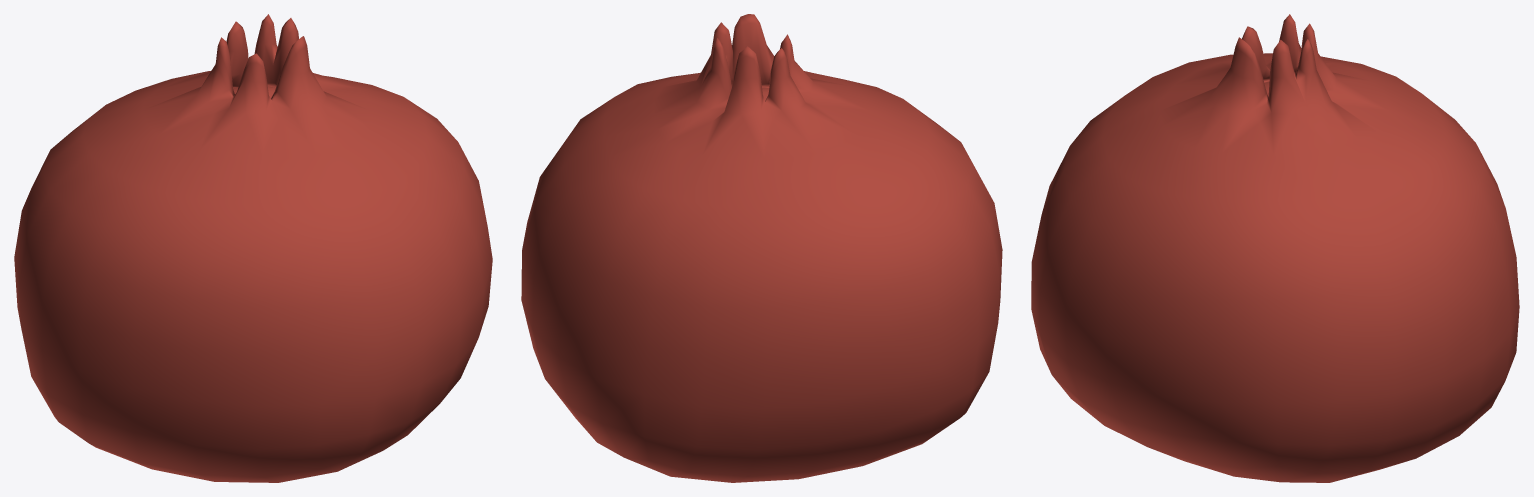
Rendered from Pomegranate_01.dae.
The picture shows the model from 3 angles, left to right: view 1: azimuth 30°, elevation 25°; view 2: azimuth 150°, elevation 25°; view 3: azimuth 270°, elevation 25°; orthographic projection. The views are drawn at different scales.
Visible parts, largest first — view 1: Pomegranate_01_LOD0; view 2: Pomegranate_01_LOD0; view 3: Pomegranate_01_LOD0.
Boxes of the visible parts, bbox=[...] form: Pomegranate_01_LOD0: bbox=[14, 14, 492, 482]; Pomegranate_01_LOD0: bbox=[521, 14, 1002, 482]; Pomegranate_01_LOD0: bbox=[1031, 14, 1519, 482].
Size of what is drawn, in the model's own units: 4.32 by 4.16 by 4.04.
